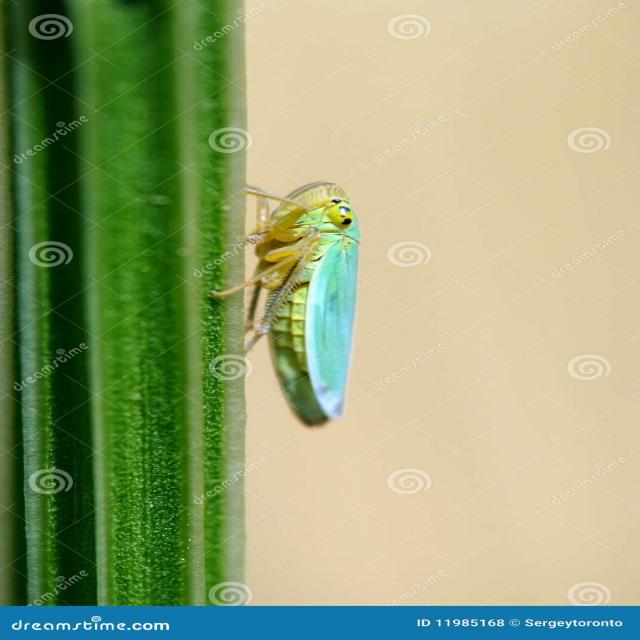Yechan: (202, 159, 363, 436)
